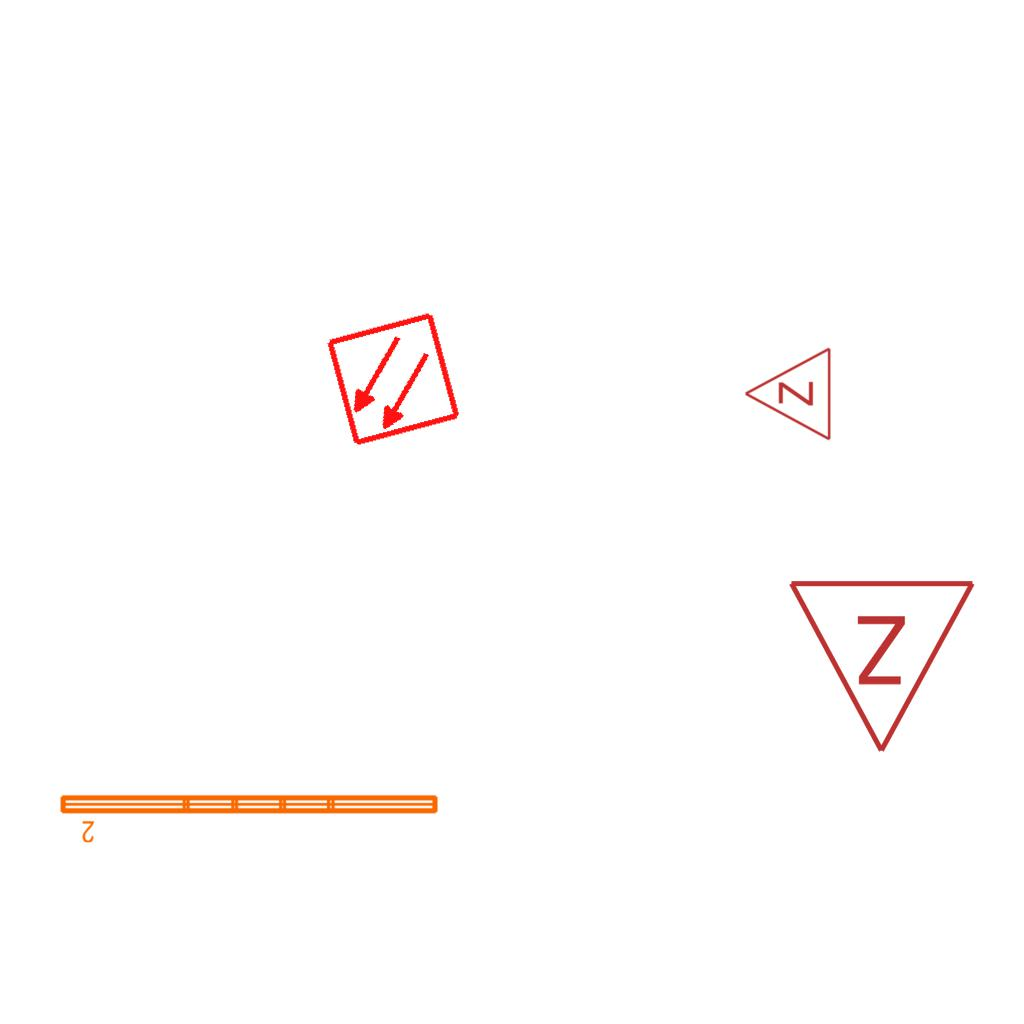Ambulanz_Pendelleuchte_LED: (56, 789, 443, 845)
RMO_Rauchmelder_optischer: (324, 310, 463, 449)
Zimmersignalleuchte: (786, 566, 982, 766), (738, 346, 838, 444)
